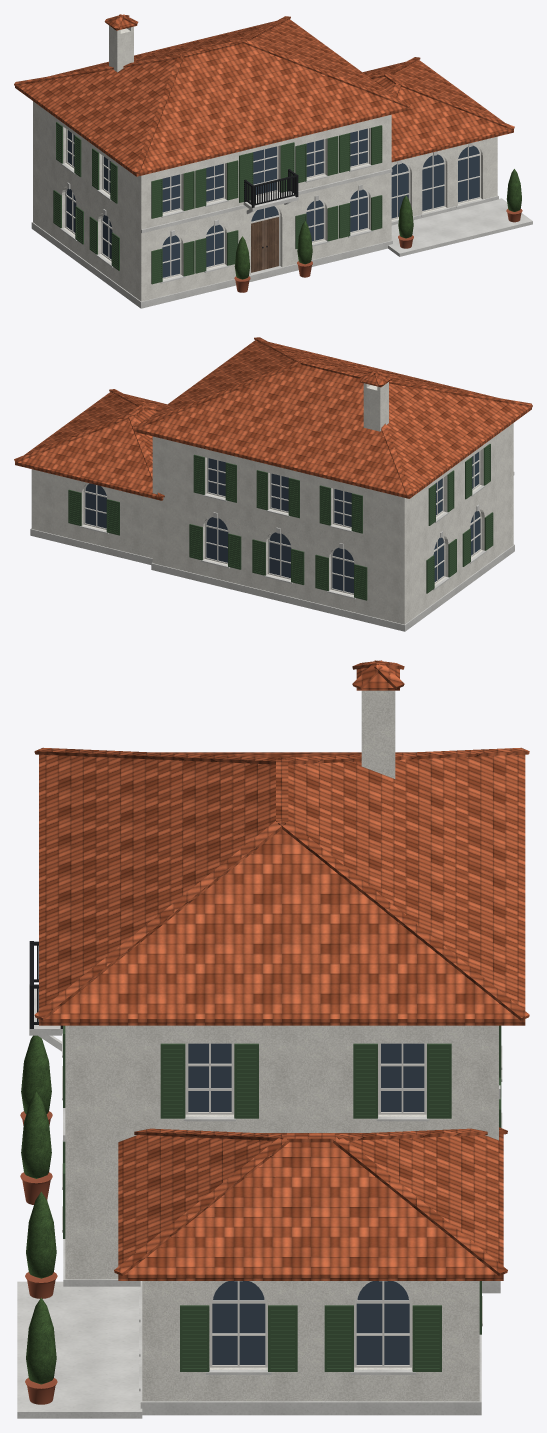
The model's file is mediterranean-villa.glb.
3 views of the same model, one above another, from view 1: azimuth 30°, elevation 25°; view 2: azimuth 150°, elevation 25°; view 3: azimuth 270°, elevation 25° (orthographic). The views are drawn at different scales.
Visible parts, largest first — view 1: Mediterranean_Villa; view 2: Mediterranean_Villa; view 3: Mediterranean_Villa.
Part boxes in pixels (<box>): Mediterranean_Villa: <box>14,14,532,308</box>; Mediterranean_Villa: <box>14,337,532,631</box>; Mediterranean_Villa: <box>17,660,529,1418</box>.
Bounding box in the file's own units: 19.23 × 10.13 × 10.64.
Materials: 11 (6 with a texture image).
